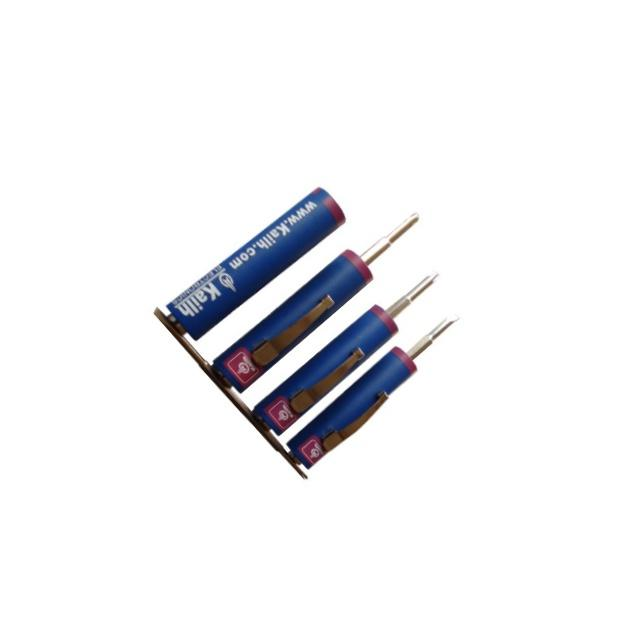screwdriver: (194, 187, 438, 409), (256, 292, 476, 492), (242, 253, 456, 447)
